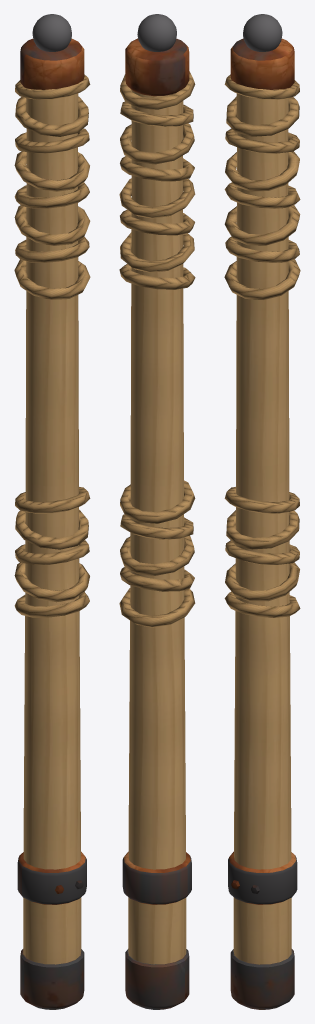
File: Handle_Long.glb
The picture shows the model from 3 angles, left to right: view 1: azimuth 30°, elevation 25°; view 2: azimuth 150°, elevation 25°; view 3: azimuth 330°, elevation 25°; orthographic projection.
Visible parts, largest first — view 1: Handle_Long; view 2: Handle_Long; view 3: Handle_Long.
Part boxes in pixels (left/top/right/bottom): Handle_Long: left=14, top=14, right=90, bottom=1009; Handle_Long: left=119, top=14, right=195, bottom=1009; Handle_Long: left=224, top=14, right=300, bottom=1009.
Bounding box in the file's own units: 0.0804 × 1.14 × 0.0789.
Materials: 5 (4 with a texture image).
